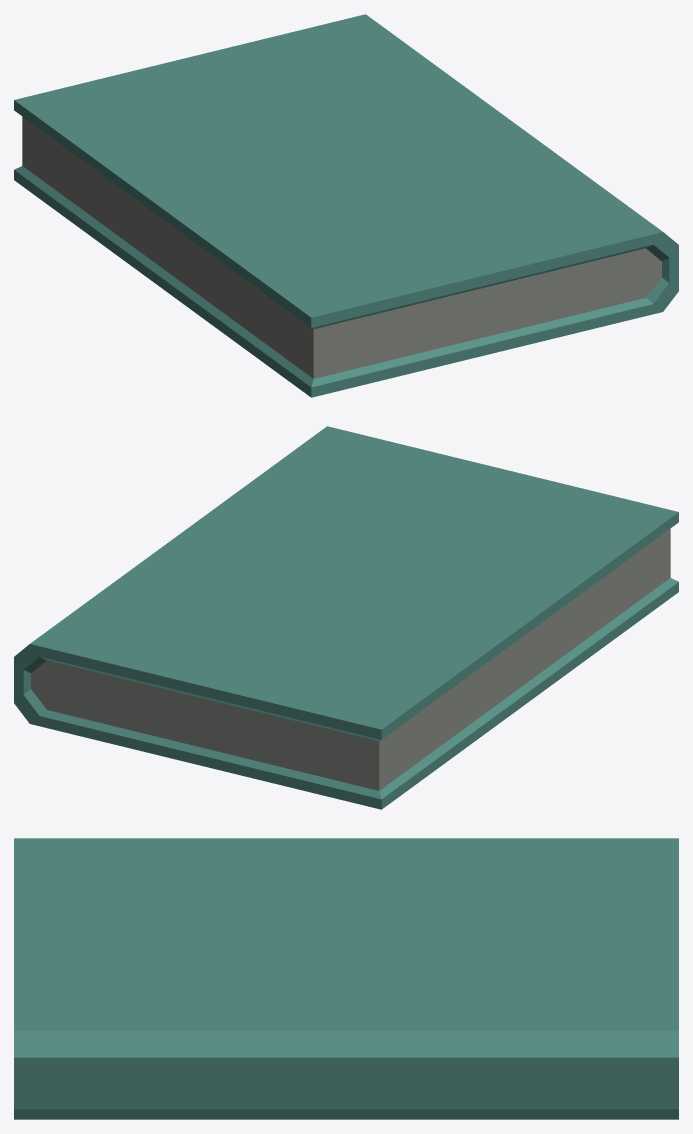
File: Book.003.fbx
3 views of the same model, one above another, from view 1: azimuth 30°, elevation 25°; view 2: azimuth 150°, elevation 25°; view 3: azimuth 270°, elevation 25° (orthographic). The views are drawn at different scales.
Visible parts, largest first — view 1: Book.003; view 2: Book.003; view 3: Book.003.
Boxes of the visible parts, bbox=[...] form: Book.003: bbox=[14, 14, 678, 397]; Book.003: bbox=[14, 426, 678, 809]; Book.003: bbox=[14, 838, 678, 1119].
Bounding box in the file's own units: 23.4 × 4.87 × 32.79.
